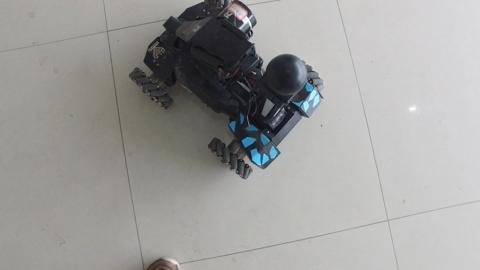chariot: (125, 8, 305, 162)
